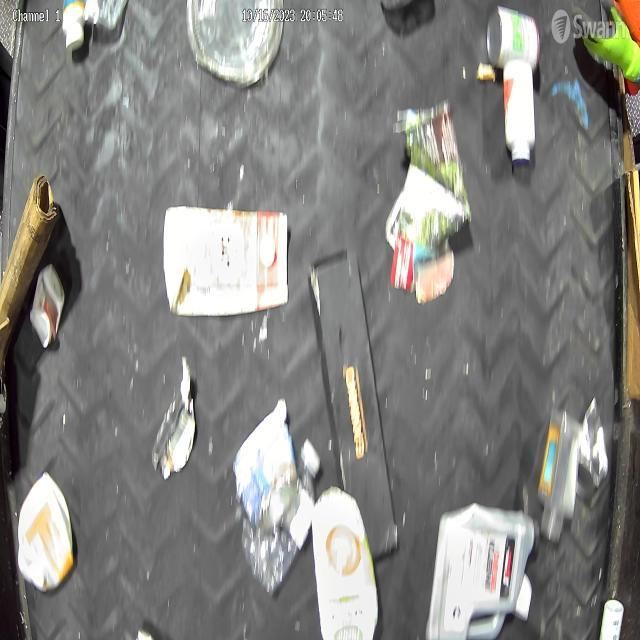can: (486, 5, 541, 76), (30, 264, 66, 349)
non_white_jug: (424, 501, 535, 640)
plastic_bottle: (240, 438, 321, 594)
